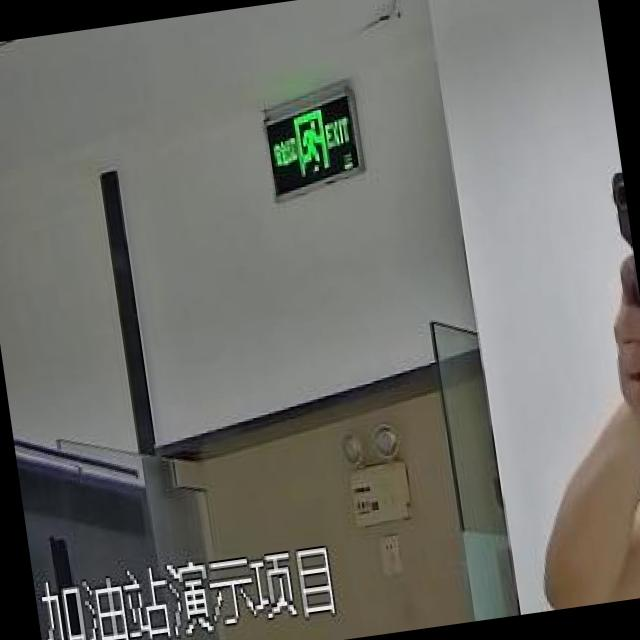Guns: (571, 121, 640, 398)
